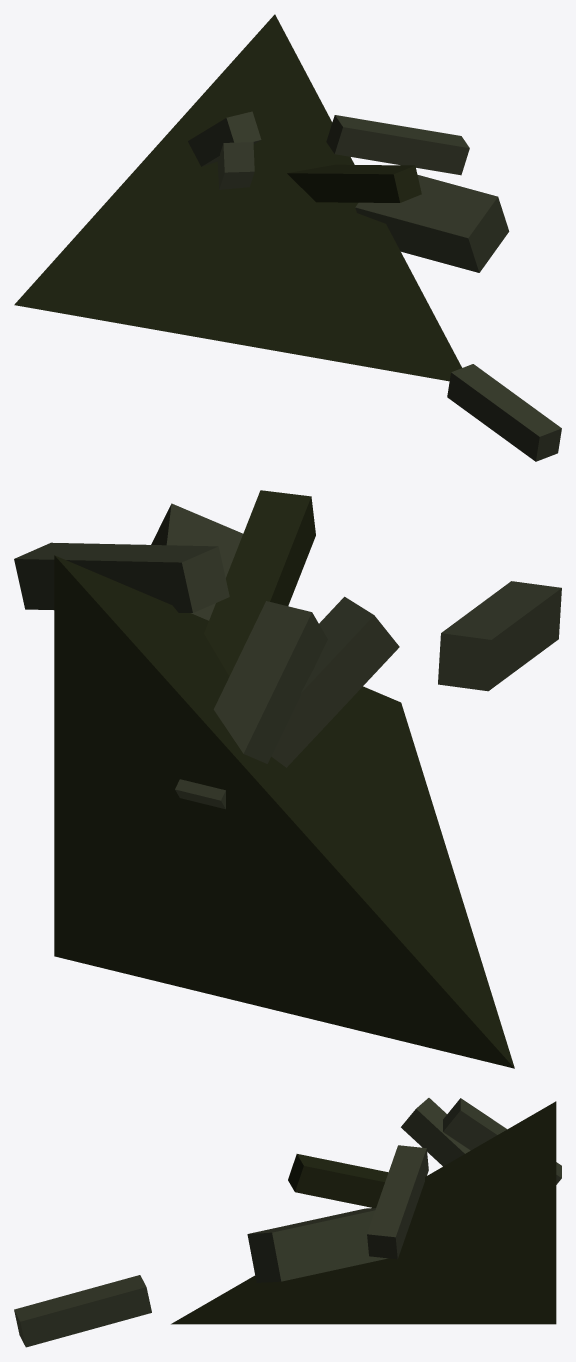
The model's file is SM_PilaZombi_RemateIzq_Altura1_s0_LOD1.fbx.
3 renders of one model, top to bottom at view 1: azimuth 30°, elevation 25°; view 2: azimuth 150°, elevation 25°; view 3: azimuth 270°, elevation 25°, orthographic. The views are drawn at different scales.
Parts seen in each view (by area): view 1: SM_pila_zombis_v0_LOD1; view 2: SM_pila_zombis_v0_LOD1; view 3: SM_pila_zombis_v0_LOD1.
Boxes of the visible parts, x1,y1,x2,y2 form: SM_pila_zombis_v0_LOD1: (14, 14, 561, 461); SM_pila_zombis_v0_LOD1: (14, 490, 561, 1068); SM_pila_zombis_v0_LOD1: (14, 1098, 561, 1347).
Bounding box in the file's own units: 1.68 × 1.08 × 2.22.
